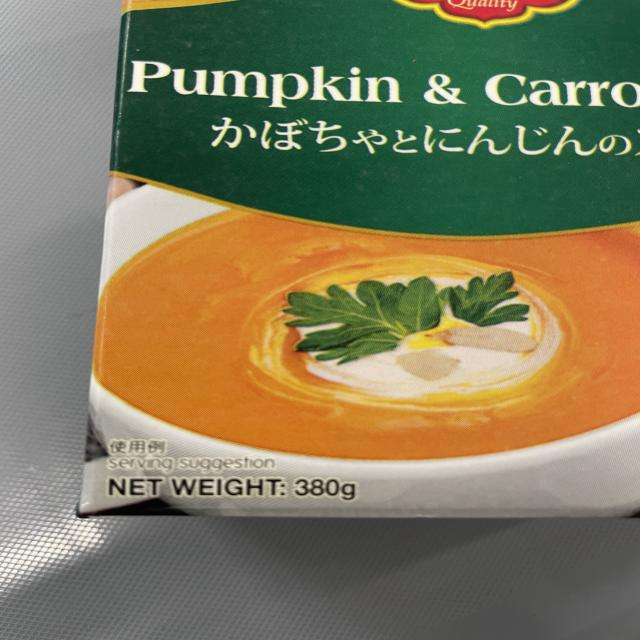object_name: (99, 5, 640, 521)
